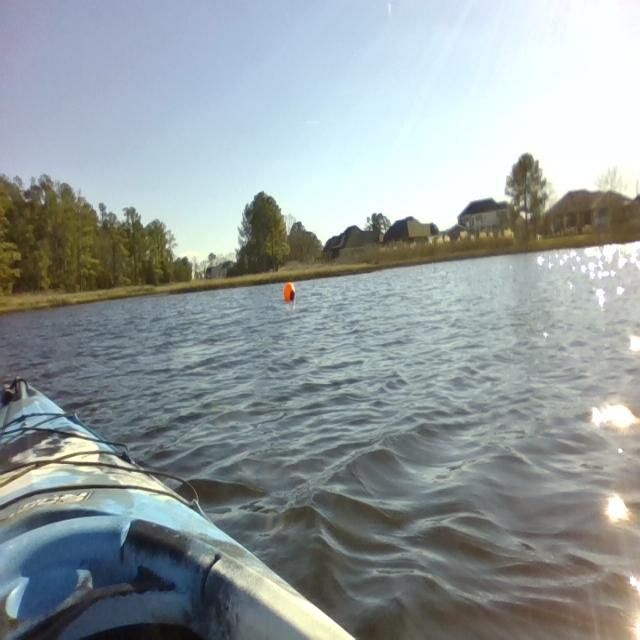Buoy: (281, 278, 299, 310)
